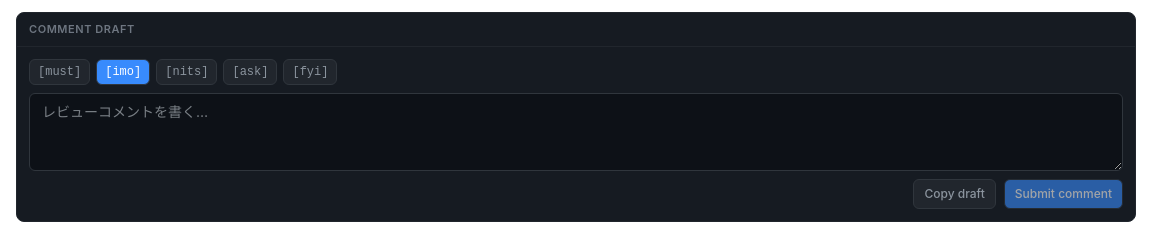
CommentDraftPanel › copies the draft with the selected prefix
The image size is (1152, 239).
Step 1. Click the button "[must]" → (60, 72), box [29,58,90,84]
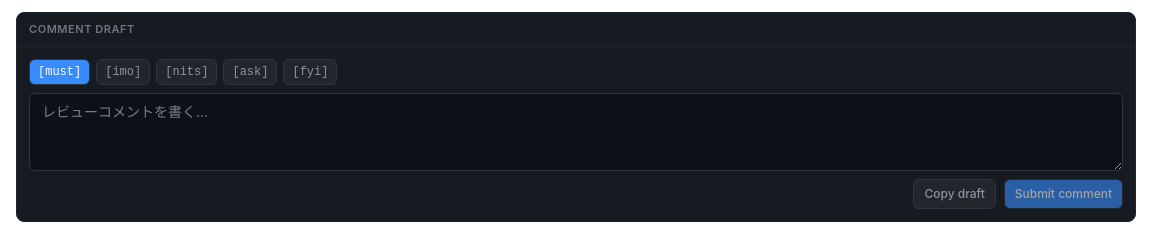
Step 2. Type "境界値のテストを足してください" into the text box named "Comment body" → (576, 132), box [29,92,1123,170]
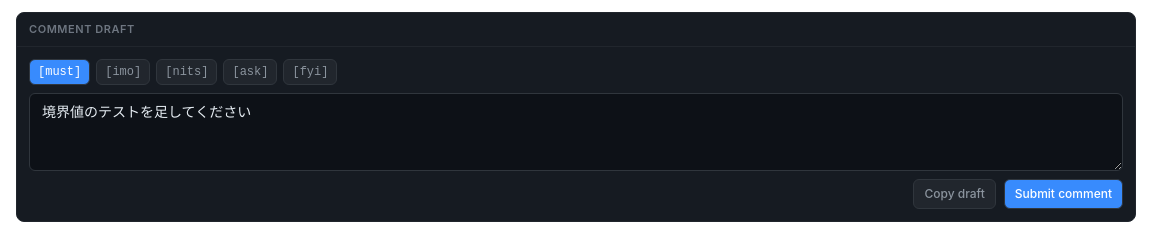
Step 3. Click the button "Copy draft" → (955, 194), box [913,178,996,208]
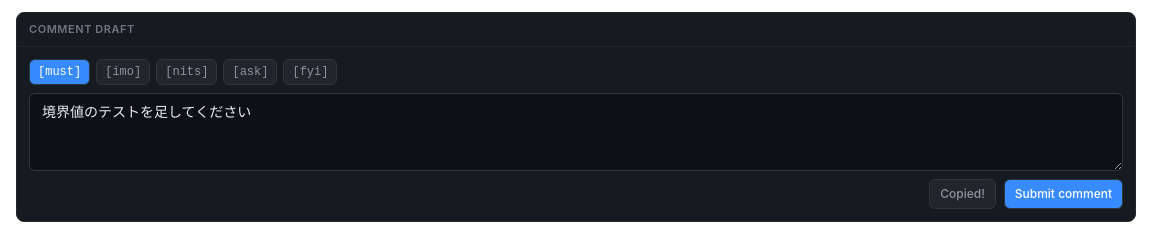
Result: the button "Copied!" is shown at [929,178,996,208]
